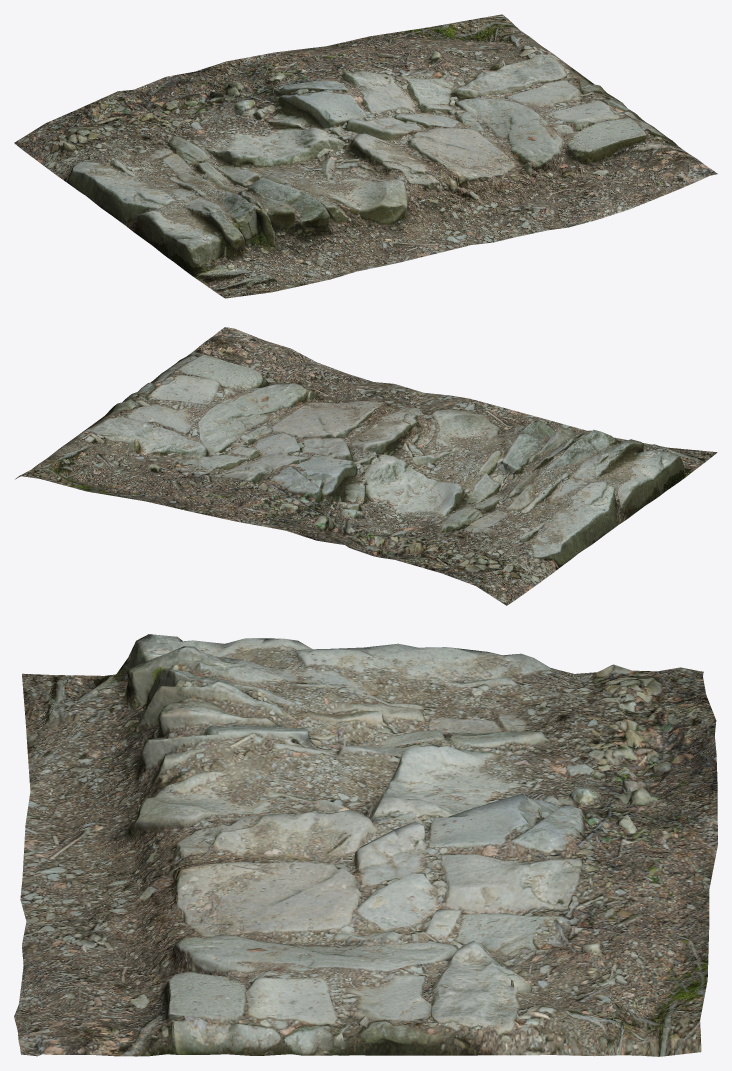
File: sm_Path_01_05.fbx
The picture shows the model from 3 angles, top to bottom: view 1: azimuth 30°, elevation 25°; view 2: azimuth 150°, elevation 25°; view 3: azimuth 270°, elevation 25°; orthographic projection. The views are drawn at different scales.
Parts seen in each view (by area): view 1: sm_Path_01_05_LOD0; view 2: sm_Path_01_05_LOD0; view 3: sm_Path_01_05_LOD0.
Part boxes in pixels (x1,y1,x2,y2): sm_Path_01_05_LOD0: (14, 14, 717, 298); sm_Path_01_05_LOD0: (15, 327, 717, 605); sm_Path_01_05_LOD0: (14, 634, 717, 1056).
Size of the model in its own units: 351 by 268 by 35.21.
